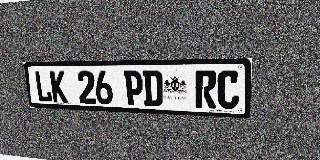2: (77, 71, 96, 104)
6: (94, 70, 113, 105)
C: (217, 70, 240, 109)
D: (143, 70, 163, 107)
K: (49, 71, 68, 103)
L: (34, 71, 52, 102)
P: (124, 70, 144, 106)
R: (195, 70, 217, 109)
